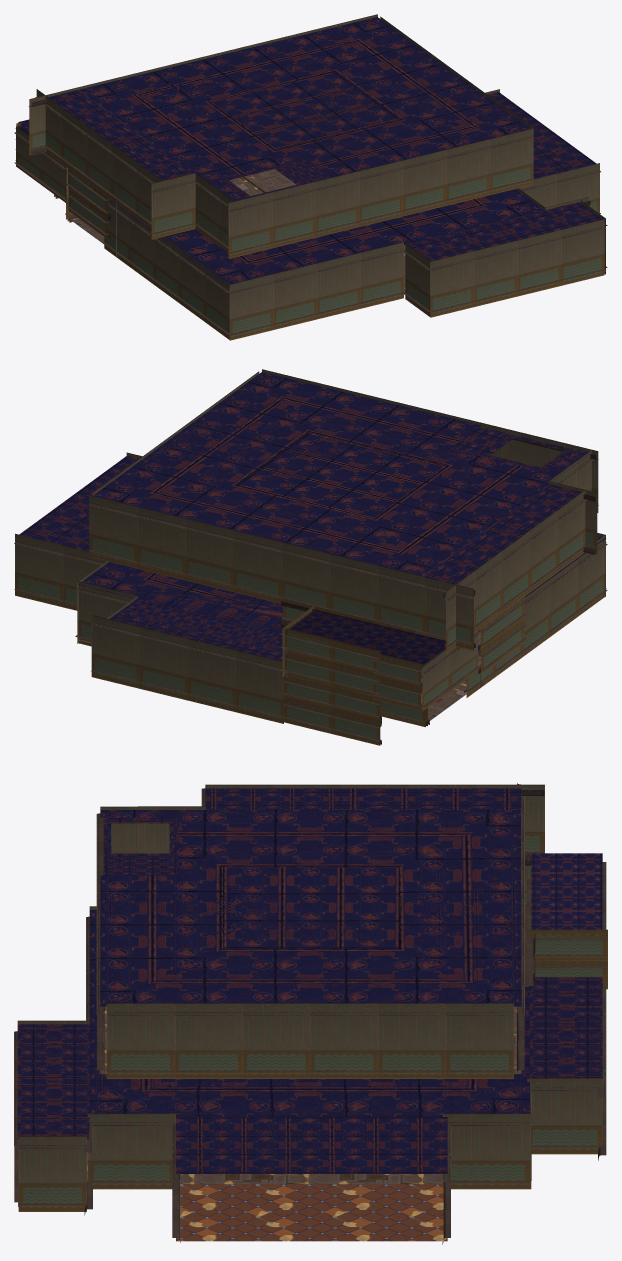
Rendered from Layout_Floor03.glb.
3 renders of one model, top to bottom at view 1: azimuth 30°, elevation 25°; view 2: azimuth 150°, elevation 25°; view 3: azimuth 270°, elevation 25°, orthographic. The views are drawn at different scales.
Visible parts, largest first — view 1: Layout_Floor03; view 2: Layout_Floor03; view 3: Layout_Floor03.
Boxes of the visible parts, <box> form: Layout_Floor03: <box>14,14,607,340</box>; Layout_Floor03: <box>14,369,607,745</box>; Layout_Floor03: <box>14,783,607,1244</box>.
Bounding box in the file's own units: 44.19 × 12.86 × 38.03.
4 materials, 4 textured.
